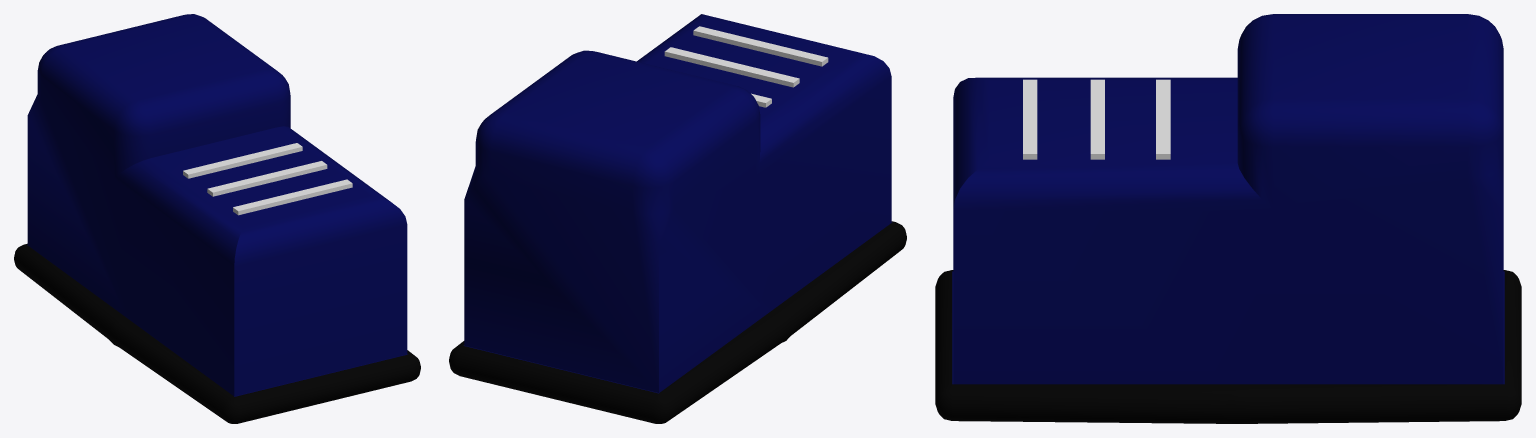
Rendered from LowPolyShoe.fbx.
The picture shows the model from 3 angles, left to right: view 1: azimuth 30°, elevation 25°; view 2: azimuth 150°, elevation 25°; view 3: azimuth 270°, elevation 25°; orthographic projection. The views are drawn at different scales.
Parts seen in each view (by area): view 1: Cube, Cube.002, Cube.001; view 2: Cube, Cube.002, Cube.001; view 3: Cube, Cube.002, Cube.001.
Boxes of the visible parts, x1,y1,x2,y2 form: Cube: [27, 14, 407, 396]; Cube.002: [14, 243, 420, 423]; Cube.001: [183, 143, 352, 215]; Cube: [463, 14, 892, 393]; Cube.002: [449, 221, 906, 423]; Cube.001: [664, 26, 828, 107]; Cube: [952, 14, 1504, 384]; Cube.002: [935, 270, 1521, 423]; Cube.001: [1023, 79, 1170, 159].
Size of the model in its own units: 238 by 253 by 440.
